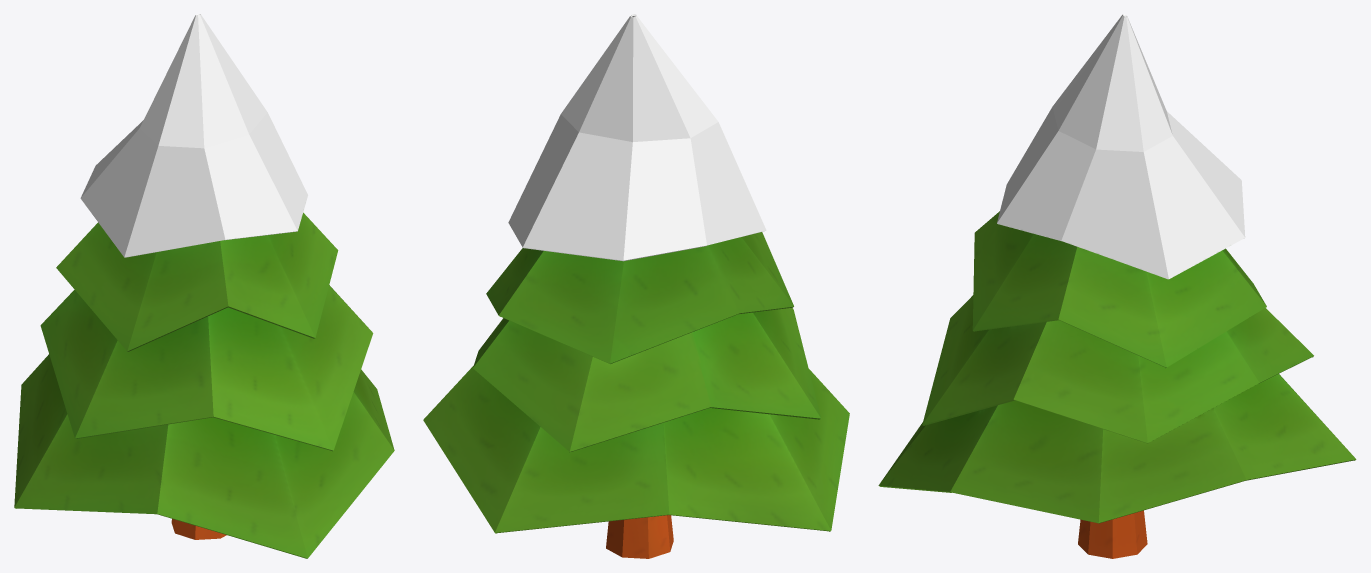
The model's file is PA_Treeset1_Tree2_CROP.fbx.
The picture shows the model from 3 angles, left to right: view 1: azimuth 30°, elevation 25°; view 2: azimuth 150°, elevation 25°; view 3: azimuth 270°, elevation 25°; orthographic projection. The views are drawn at different scales.
Visible parts, largest first — view 1: PA_Treeset1_Tree2.004, PA_Treeset1_Tree2.016, PA_Treeset1_Tree2.012, PA_Treeset1_Tree2.005, PA_Treeset1_Tree2.011, PA_Treeset1_Tree2.003, PA_Treeset1_Tree2.010, PA_Treeset1_Tree2.006, PA_Treeset1_Tree2.001, PA_Treeset1_Tree2.015; view 2: PA_Treeset1_Tree2.013, PA_Treeset1_Tree2.015, PA_Treeset1_Tree2.010, PA_Treeset1_Tree2.009, PA_Treeset1_Tree2.008, PA_Treeset1_Tree2.012, PA_Treeset1_Tree2.016, PA_Treeset1_Tree2.014, PA_Treeset1_Tree2.011, PA_Treeset1_Tree2.007, PA_Treeset1_Tree2.001; view 3: PA_Treeset1_Tree2.008, PA_Treeset1_Tree2.007, PA_Treeset1_Tree2.006, PA_Treeset1_Tree2.005, PA_Treeset1_Tree2.004, PA_Treeset1_Tree2.003, PA_Treeset1_Tree2.013, PA_Treeset1_Tree2.015, PA_Treeset1_Tree2.001.
Part boxes in pixels (box(x1,y1,x2,y2)): PA_Treeset1_Tree2.004: box(157, 235, 394, 558); PA_Treeset1_Tree2.016: box(56, 15, 225, 351); PA_Treeset1_Tree2.012: box(40, 241, 228, 438); PA_Treeset1_Tree2.005: box(198, 14, 338, 337); PA_Treeset1_Tree2.011: box(14, 414, 168, 514); PA_Treeset1_Tree2.003: box(280, 285, 373, 451); PA_Treeset1_Tree2.010: box(14, 354, 67, 508); PA_Treeset1_Tree2.006: box(329, 285, 394, 449); PA_Treeset1_Tree2.001: box(171, 519, 226, 539); PA_Treeset1_Tree2.015: box(81, 14, 198, 197); PA_Treeset1_Tree2.013: box(473, 245, 739, 452); PA_Treeset1_Tree2.015: box(523, 16, 706, 261); PA_Treeset1_Tree2.010: box(663, 408, 830, 531); PA_Treeset1_Tree2.009: box(495, 422, 669, 533); PA_Treeset1_Tree2.008: box(423, 248, 543, 533); PA_Treeset1_Tree2.012: box(692, 232, 821, 419); PA_Treeset1_Tree2.016: box(634, 15, 793, 314); PA_Treeset1_Tree2.014: box(569, 332, 710, 452); PA_Treeset1_Tree2.011: box(769, 369, 849, 531); PA_Treeset1_Tree2.007: box(508, 15, 631, 248); PA_Treeset1_Tree2.001: box(606, 515, 673, 558); PA_Treeset1_Tree2.008: box(1098, 250, 1356, 523); PA_Treeset1_Tree2.007: box(1058, 16, 1244, 367); PA_Treeset1_Tree2.006: box(950, 320, 1147, 523); PA_Treeset1_Tree2.005: box(973, 14, 1125, 331); PA_Treeset1_Tree2.004: box(878, 211, 1033, 492); PA_Treeset1_Tree2.003: box(922, 322, 1046, 425); PA_Treeset1_Tree2.013: box(1222, 248, 1313, 383); PA_Treeset1_Tree2.015: box(1125, 15, 1245, 238); PA_Treeset1_Tree2.001: box(1078, 510, 1147, 558).
Size of the model in its own units: 189 by 260 by 213.
